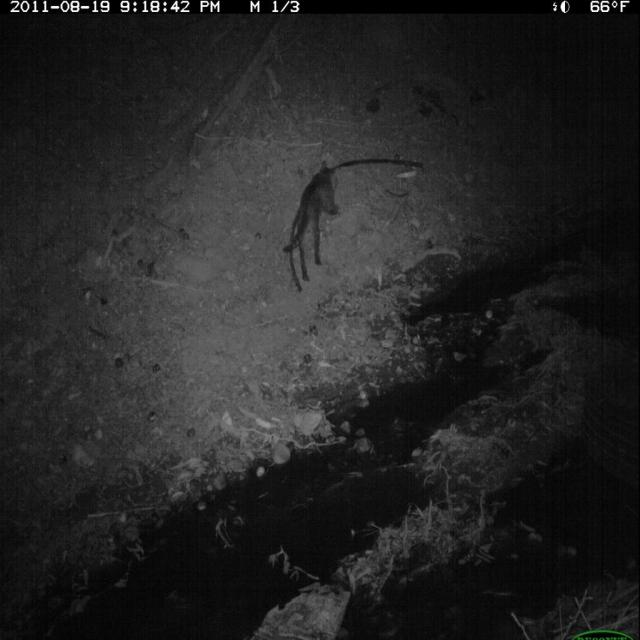cat: (281, 158, 346, 285)
